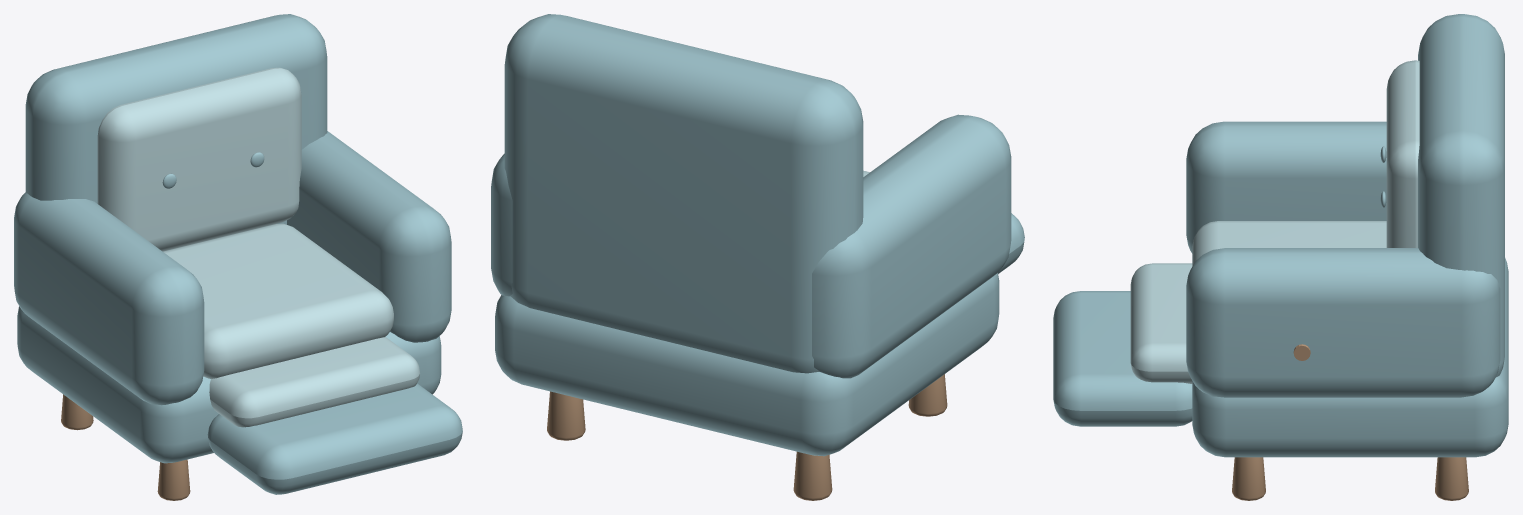
The model's file is recliner.glb.
3 renders of one model, left to right at view 1: azimuth 30°, elevation 25°; view 2: azimuth 150°, elevation 25°; view 3: azimuth 270°, elevation 25°, orthographic. The views are drawn at different scales.
Visible parts, largest first — view 1: Chair back cushion, Cushioned arm, Chair back, Chair seat, Cushioned arm.001, Recliner footrest, Chair base, Recliner cushion, Oak foot, Oak foot.001; view 2: Chair back, Chair base, Cushioned arm, Cushioned arm.001, Oak foot.001, Oak foot.003, Oak foot, Recliner footrest; view 3: Cushioned arm.001, Chair back, Cushioned arm, Chair base, Recliner footrest, Recliner cushion, Chair back cushion, Chair seat, Oak foot.002, Oak foot.003.
Boxes of the visible parts, box(x1,y1,x2,y2) form: Chair back cushion: box(97, 67, 301, 251); Cushioned arm: box(14, 192, 204, 405); Chair back: box(25, 14, 327, 251); Chair seat: box(163, 223, 393, 378); Cushioned arm.001: box(287, 131, 451, 342); Recliner footrest: box(207, 383, 462, 494); Chair base: box(17, 306, 441, 463); Recliner cushion: box(209, 337, 420, 427); Oak foot: box(157, 459, 190, 500); Oak foot.001: box(61, 394, 93, 430); Chair back: box(504, 14, 863, 373); Chair base: box(495, 273, 999, 456); Cushioned arm: box(812, 114, 1011, 378); Cushioned arm.001: box(491, 153, 512, 296); Oak foot.001: box(793, 451, 832, 500); Oak foot.003: box(547, 391, 585, 440); Oak foot: box(908, 374, 947, 416); Recliner footrest: box(998, 213, 1024, 273); Cushioned arm.001: box(1186, 248, 1500, 397); Chair back: box(1418, 14, 1504, 377); Cushioned arm: box(1186, 121, 1386, 253); Chair base: box(1192, 258, 1508, 457); Recliner footrest: box(1053, 291, 1192, 426); Recliner cushion: box(1130, 263, 1192, 383); Chair back cushion: box(1386, 60, 1419, 247); Chair seat: box(1192, 221, 1386, 265); Oak foot.002: box(1232, 457, 1265, 500); Oak foot.003: box(1435, 457, 1468, 500).
Bounding box in the file's own units: 1.6 × 1.68 × 1.88.
